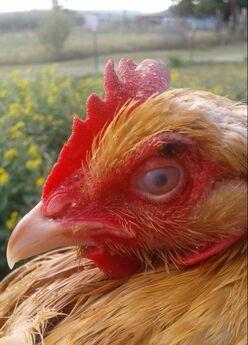AbNormal: (43, 57, 172, 210)
